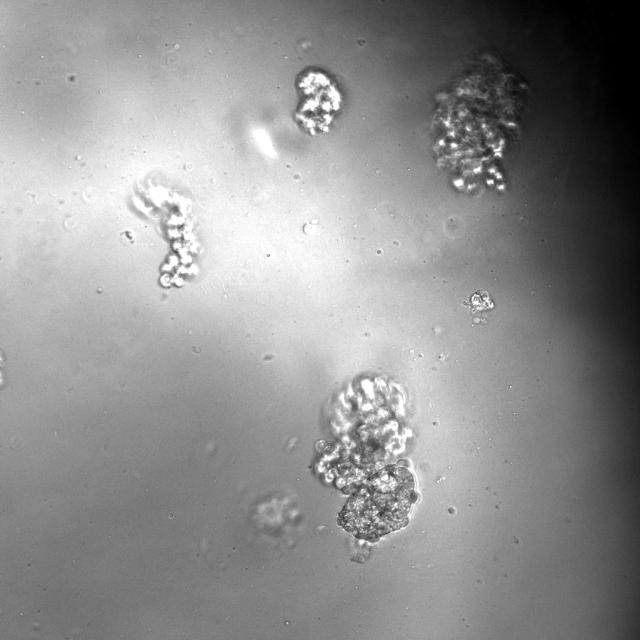organoid: (311, 372, 418, 562), (431, 53, 528, 195), (131, 173, 201, 288), (294, 66, 342, 135), (462, 290, 494, 324)
